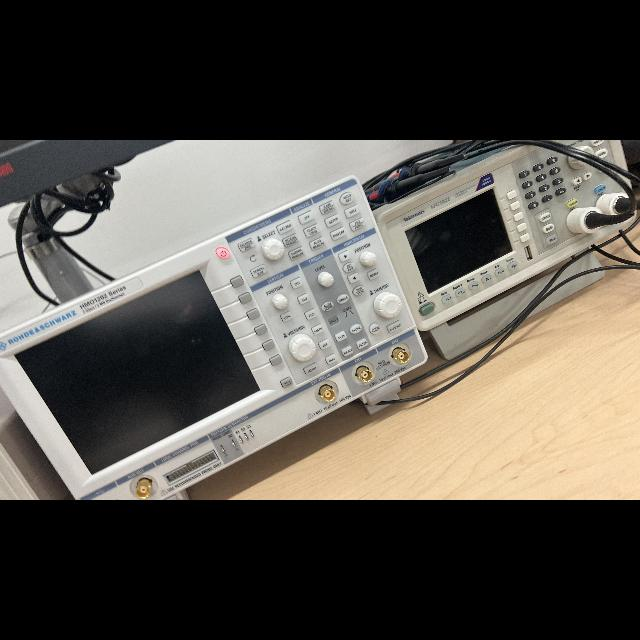Digital-Oscilloscope: (0, 177, 426, 499)
